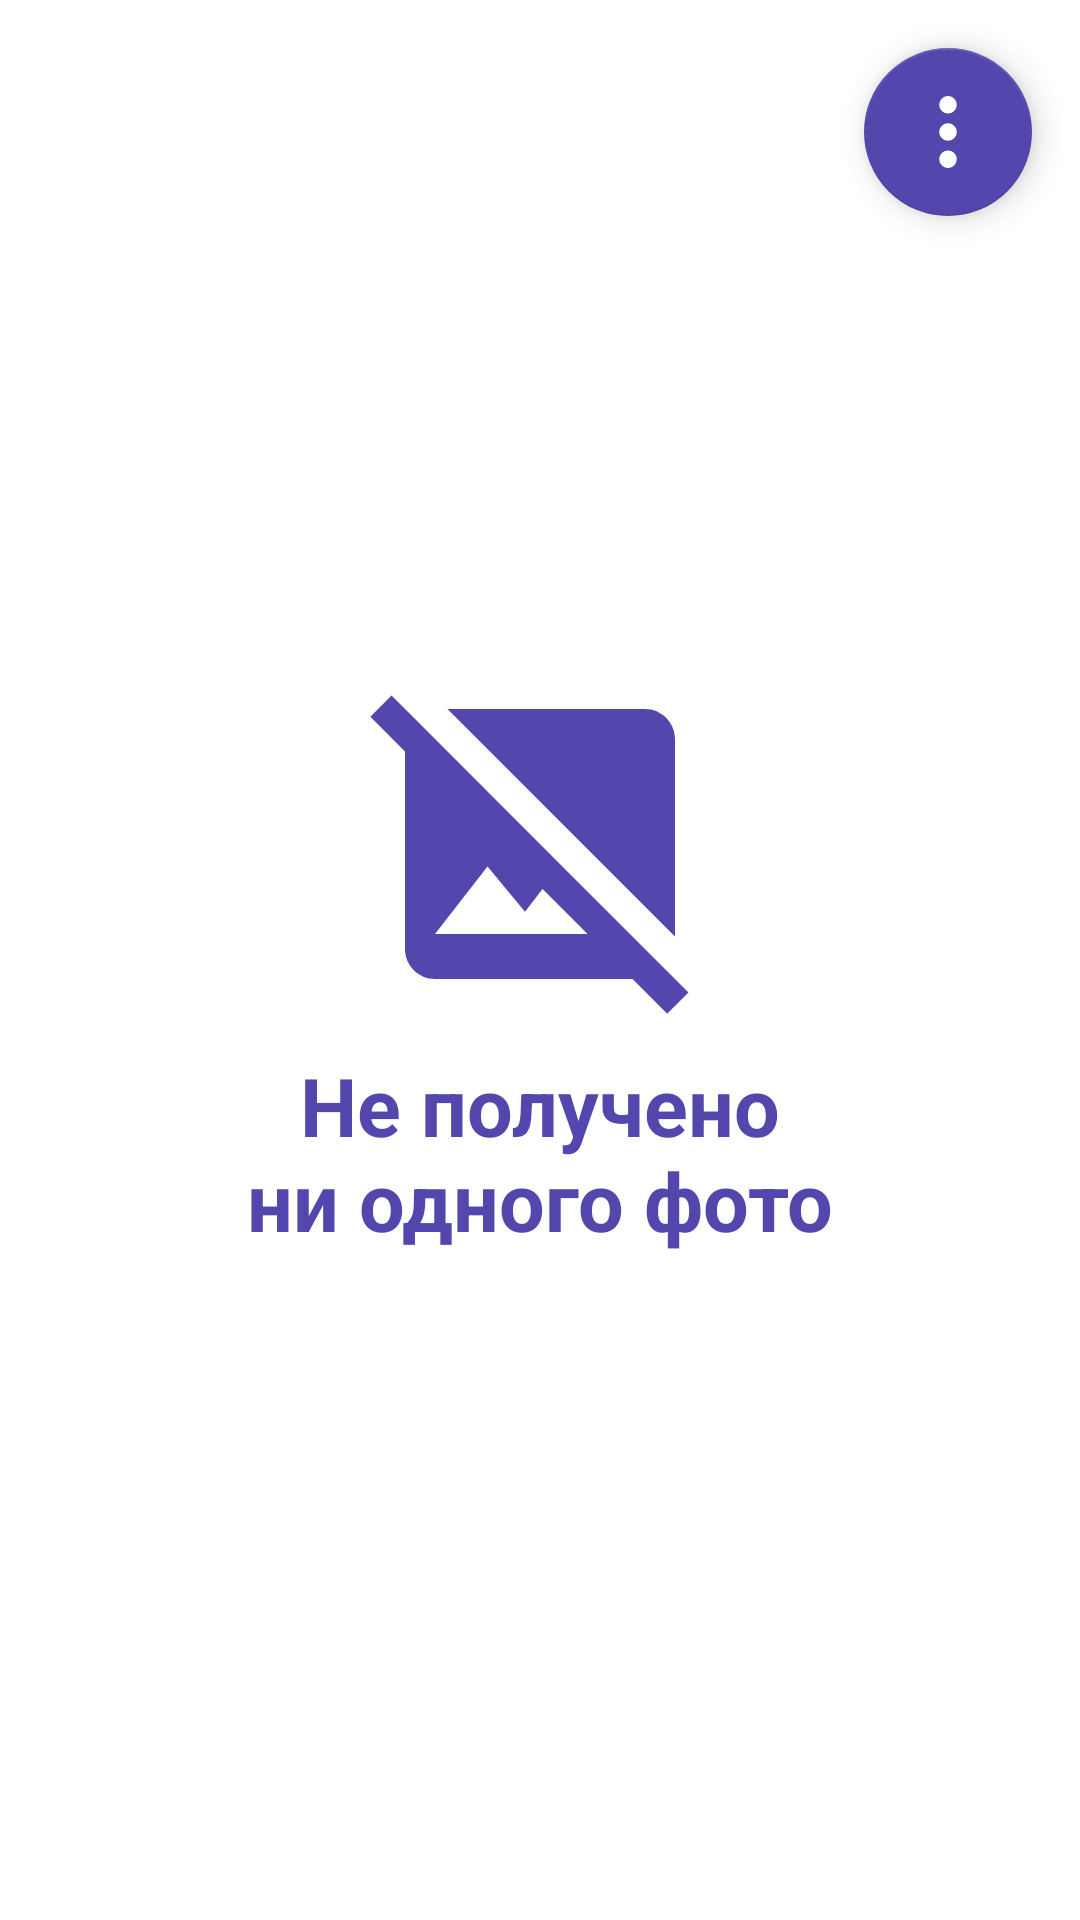

Locate icon controls on the screen. Image size 1080 × 1920, boxes as rect(x1, y1, x2, y2).
no photos: rect(370, 695, 689, 1014)
Меню: rect(864, 48, 1032, 216)
